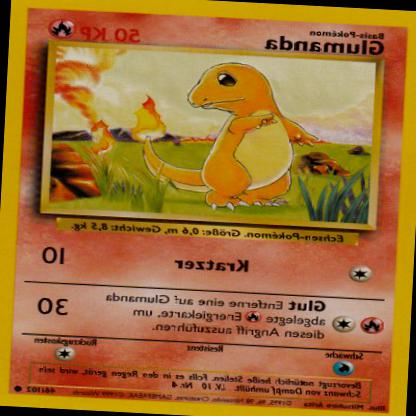Charmander: (130, 56, 325, 214)
